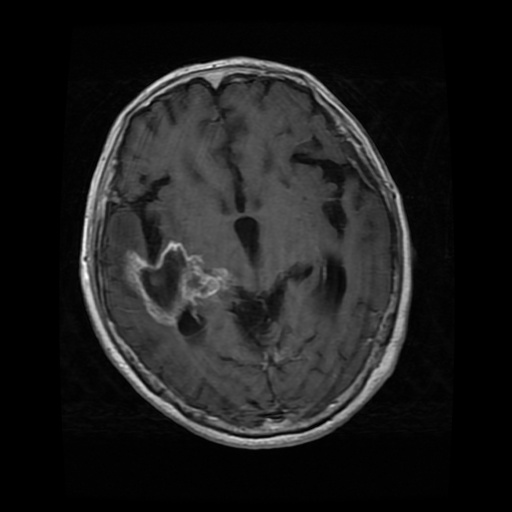glioma: (126, 239, 229, 326)
